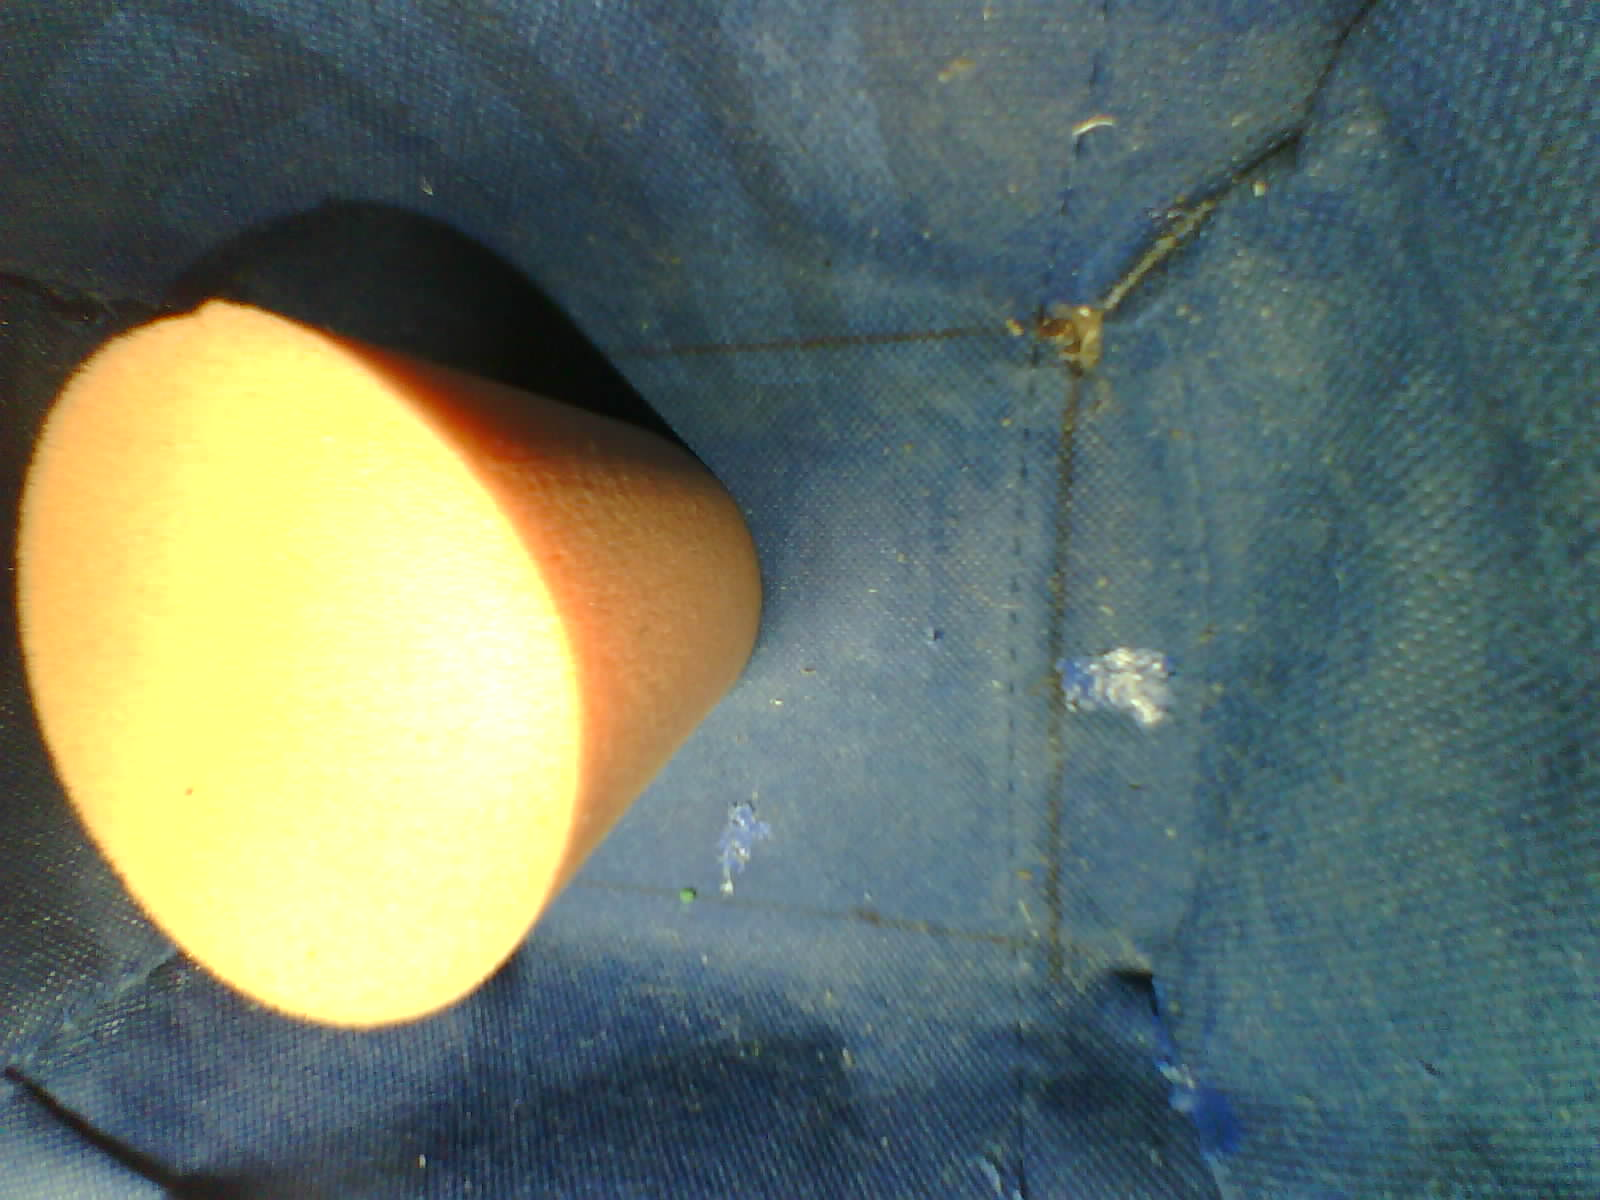cylinder-soft: (8, 271, 780, 1075)
